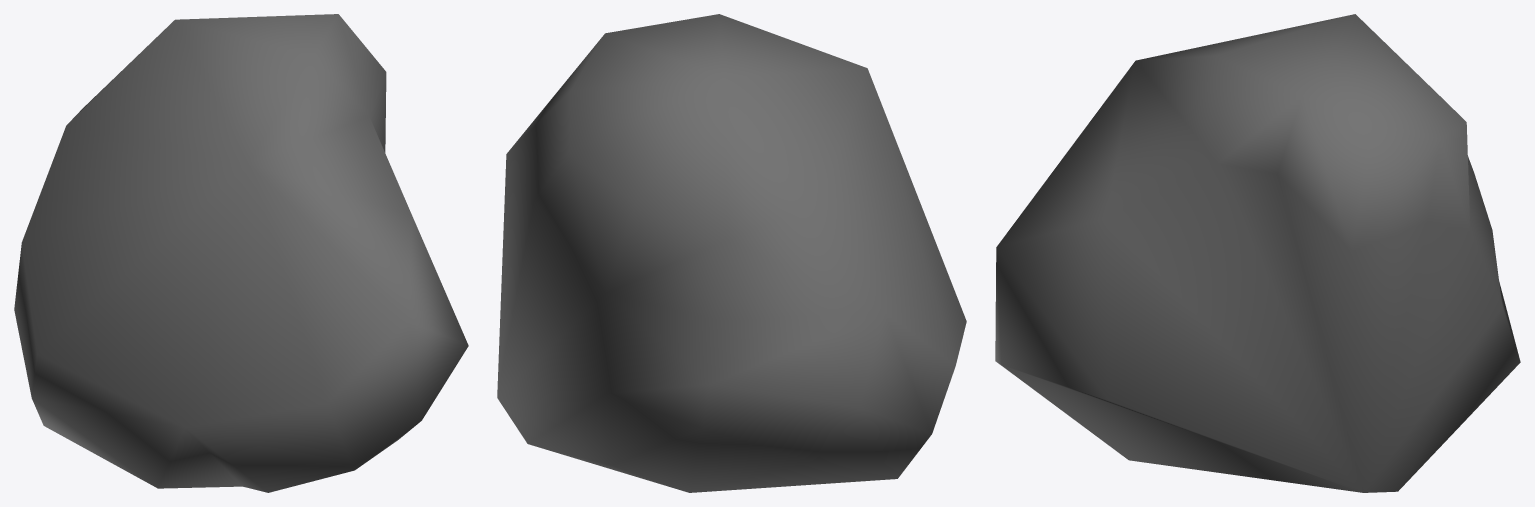
The model's file is Piedra_3_FBX.fbx.
3 views of the same model, side by side, from view 1: azimuth 30°, elevation 25°; view 2: azimuth 150°, elevation 25°; view 3: azimuth 270°, elevation 25° (orthographic). The views are drawn at different scales.
Parts seen in each view (by area): view 1: Piedra_3; view 2: Piedra_3; view 3: Piedra_3.
Boxes of the visible parts, x1,y1,x2,y2 form: Piedra_3: [14, 14, 468, 492]; Piedra_3: [497, 14, 966, 492]; Piedra_3: [995, 14, 1520, 492].
Bounding box in the file's own units: 1.02 × 0.9567 × 1.13.
